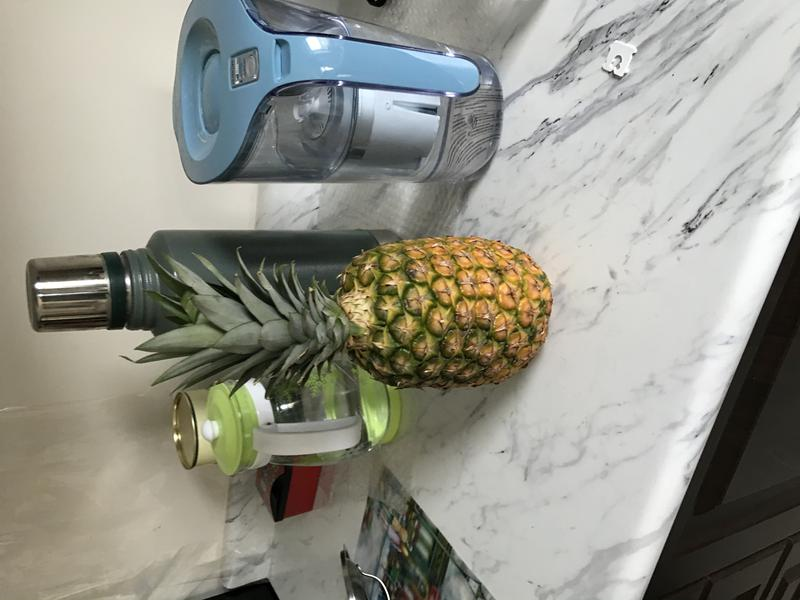pineapple: (121, 225, 566, 395)
